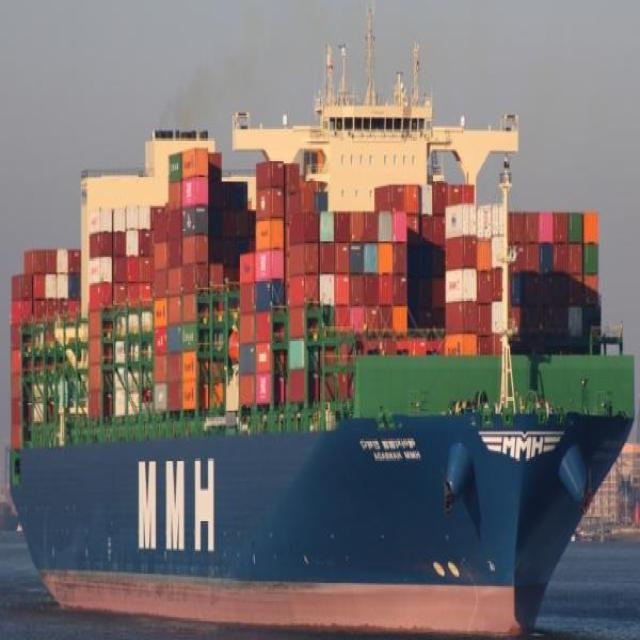Container Ship: (9, 2, 636, 639)
